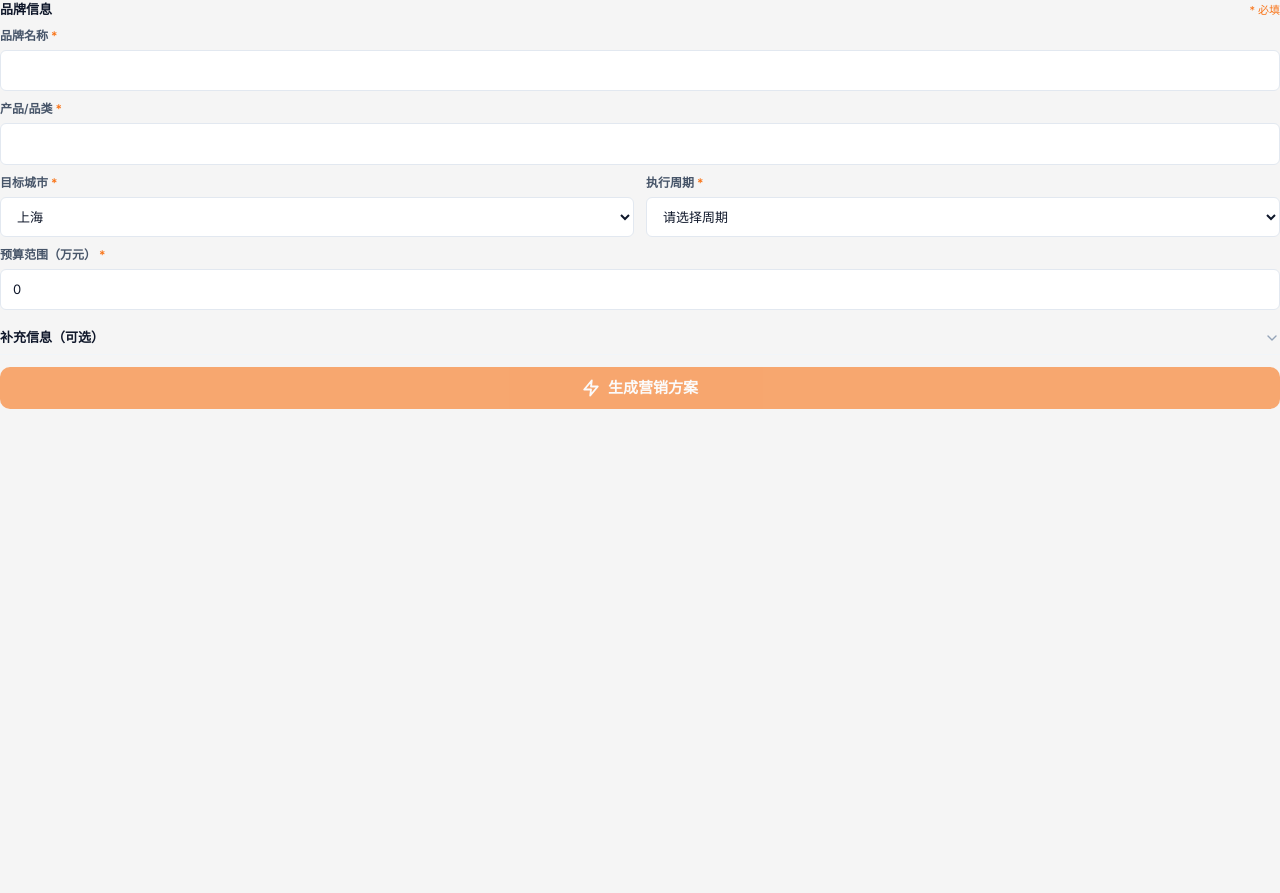
PlanForm › collapsible advanced section shows on click
Check: the text "补充信息（可选）" is shown, box [0,328,104,348]
Click the button "补充信息（可选）". click: [52, 337]
box: [0,322,1279,354]
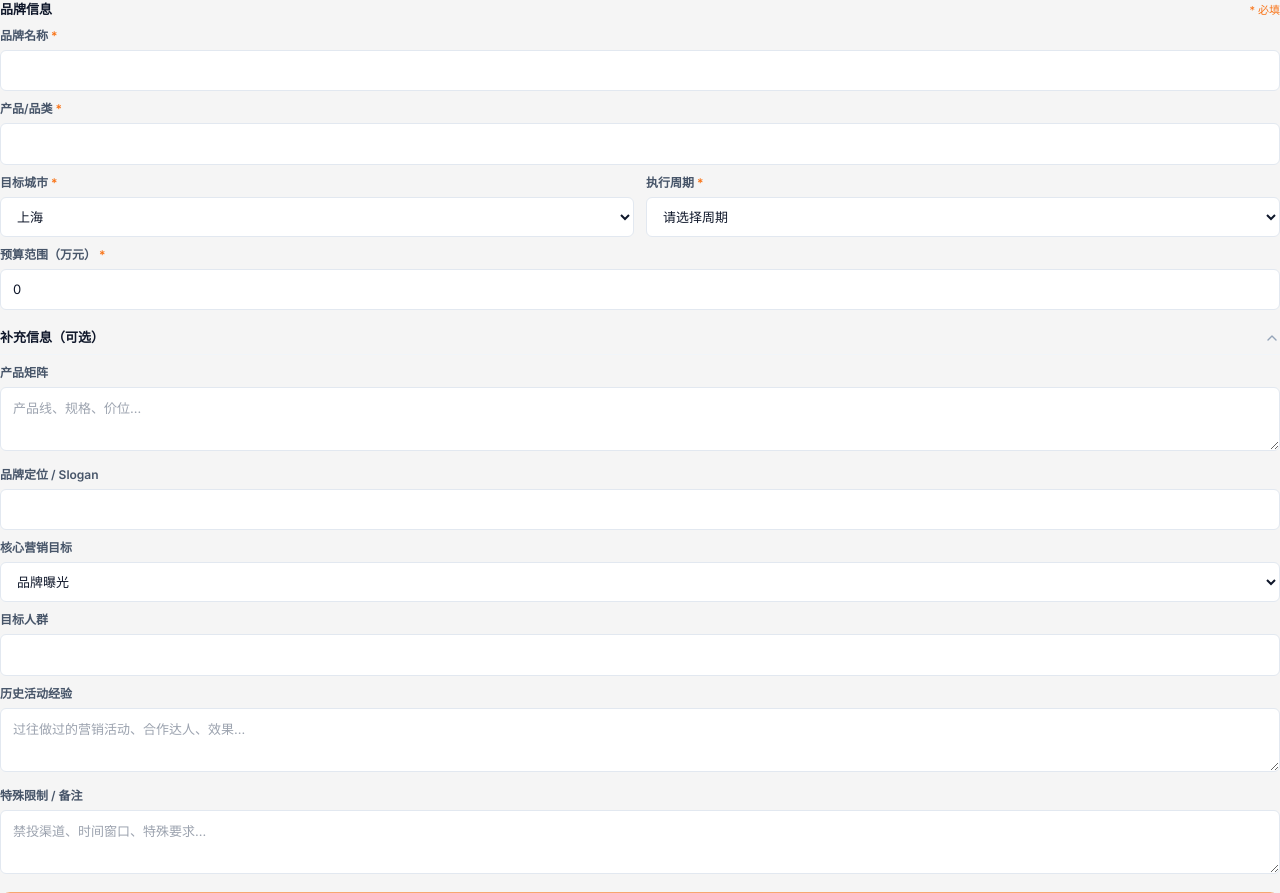
Check: the text "产品矩阵" is shown, box [0,364,48,380]
